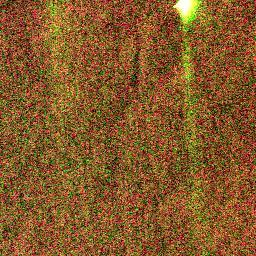Ship: (173, 0, 202, 20)
